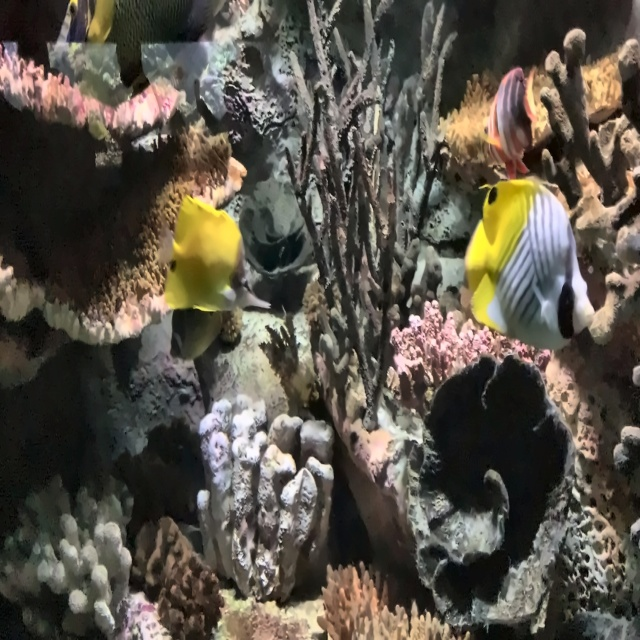fish: (463, 174, 595, 353), (66, 0, 225, 84), (160, 195, 271, 312), (481, 62, 541, 178), (169, 285, 223, 360), (58, 1, 114, 52)
